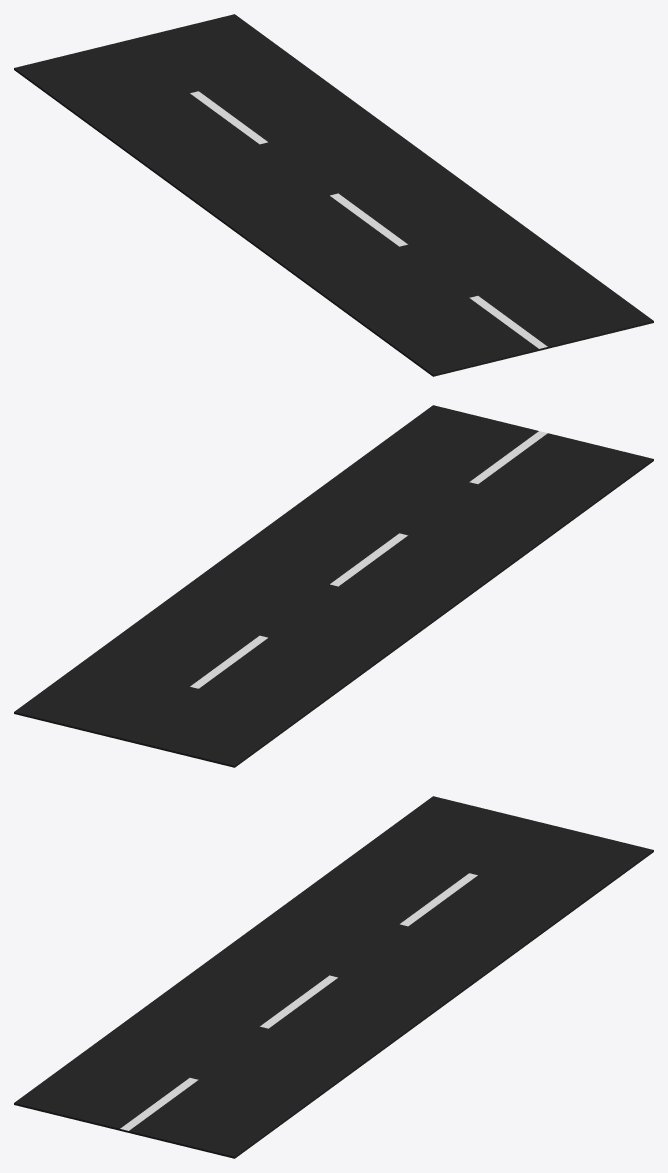
File: LandingTrack1Straight_AIRPORT_0.obj
The picture shows the model from 3 angles, top to bottom: view 1: azimuth 30°, elevation 25°; view 2: azimuth 150°, elevation 25°; view 3: azimuth 330°, elevation 25°; orthographic projection.
Parts seen in each view (by area): view 1: LandingTrack1Straight_AIRPORT_0; view 2: LandingTrack1Straight_AIRPORT_0; view 3: LandingTrack1Straight_AIRPORT_0.
Part boxes in pixels (x1=…): LandingTrack1Straight_AIRPORT_0: x1=14, y1=14, x2=653, y2=376; LandingTrack1Straight_AIRPORT_0: x1=14, y1=405, x2=653, y2=767; LandingTrack1Straight_AIRPORT_0: x1=14, y1=796, x2=653, y2=1158.
Size of the model in its own units: 81.9 by 0.7001 by 269.
Materials: 1 (1 with a texture image).
